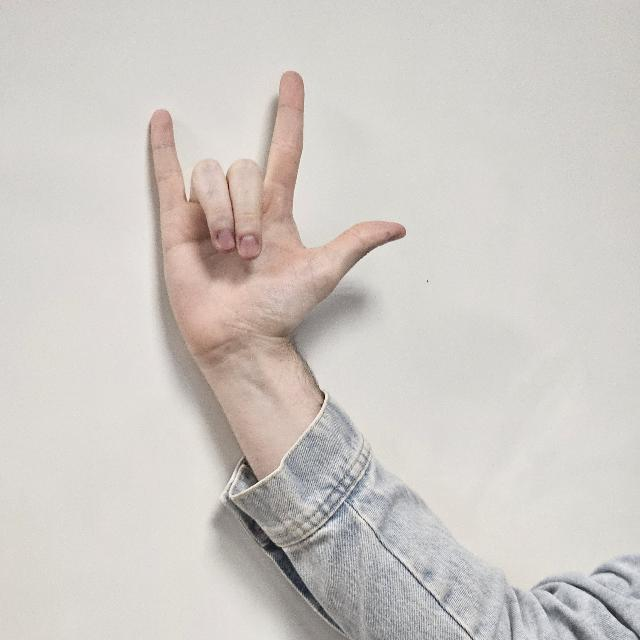Cima: (136, 64, 406, 380)
